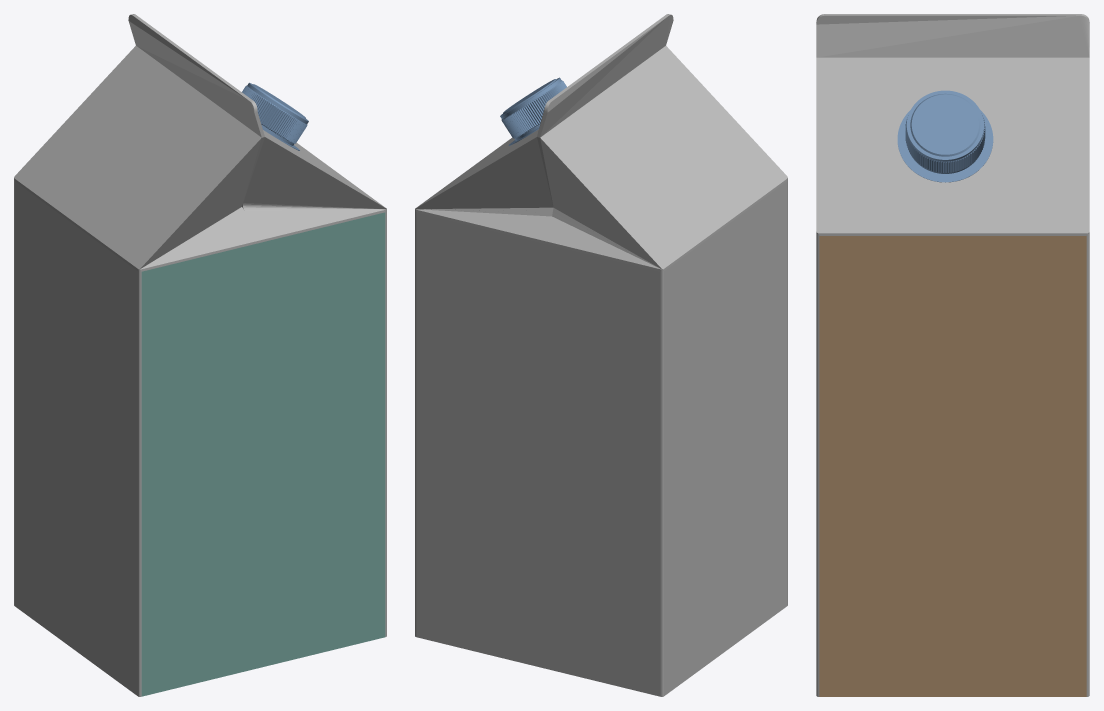
Rendered from milk.obj.
3 renders of one model, left to right at view 1: azimuth 30°, elevation 25°; view 2: azimuth 150°, elevation 25°; view 3: azimuth 270°, elevation 25°, orthographic. The views are drawn at different scales.
Visible parts, largest first — view 1: Object03, Box01, Cylinder01, Object01; view 2: Box01, Cylinder01, Object01; view 3: Object02, Object01, Box01, Cylinder01.
Part boxes in pixels (x1=…): Object03: x1=141, y1=212, x2=385, y2=696; Box01: x1=14, y1=14, x2=386, y2=696; Cylinder01: x1=242, y1=82, x2=308, y2=150; Object01: x1=263, y1=130, x2=385, y2=207; Box01: x1=415, y1=14, x2=787, y2=696; Cylinder01: x1=500, y1=77, x2=566, y2=145; Object01: x1=417, y1=129, x2=538, y2=207; Object02: x1=819, y1=236, x2=1086, y2=696; Object01: x1=816, y1=57, x2=1089, y2=233; Box01: x1=816, y1=14, x2=1089, y2=696; Cylinder01: x1=897, y1=90, x2=993, y2=182.
Bounding box in the file's own units: 0.1988 × 0.4315 × 0.1744.
